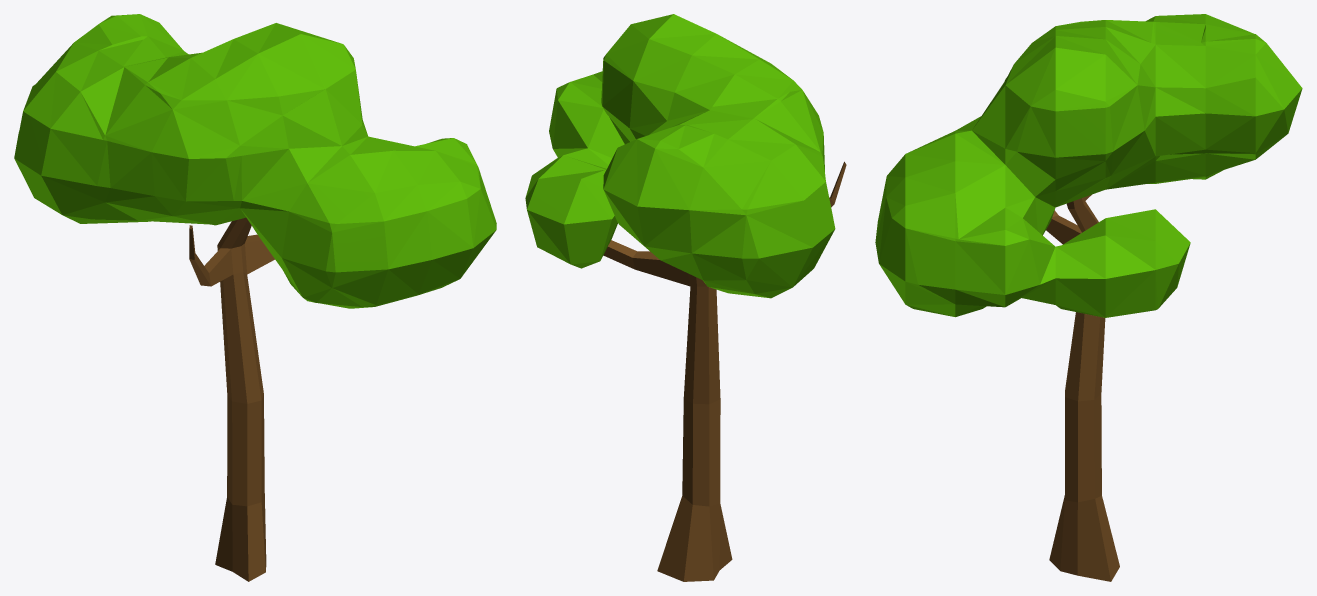
The model's file is good tree.fbx.
3 renders of one model, left to right at view 1: azimuth 30°, elevation 25°; view 2: azimuth 150°, elevation 25°; view 3: azimuth 270°, elevation 25°, orthographic.
Parts seen in each view (by area): view 1: tree; view 2: tree; view 3: tree.
Part boxes in pixels (x1,y1,x2,y2): tree: (14, 14, 496, 581); tree: (525, 14, 846, 581); tree: (875, 14, 1302, 581).
Bounding box in the file's own units: 1108 × 1558 × 1118.
